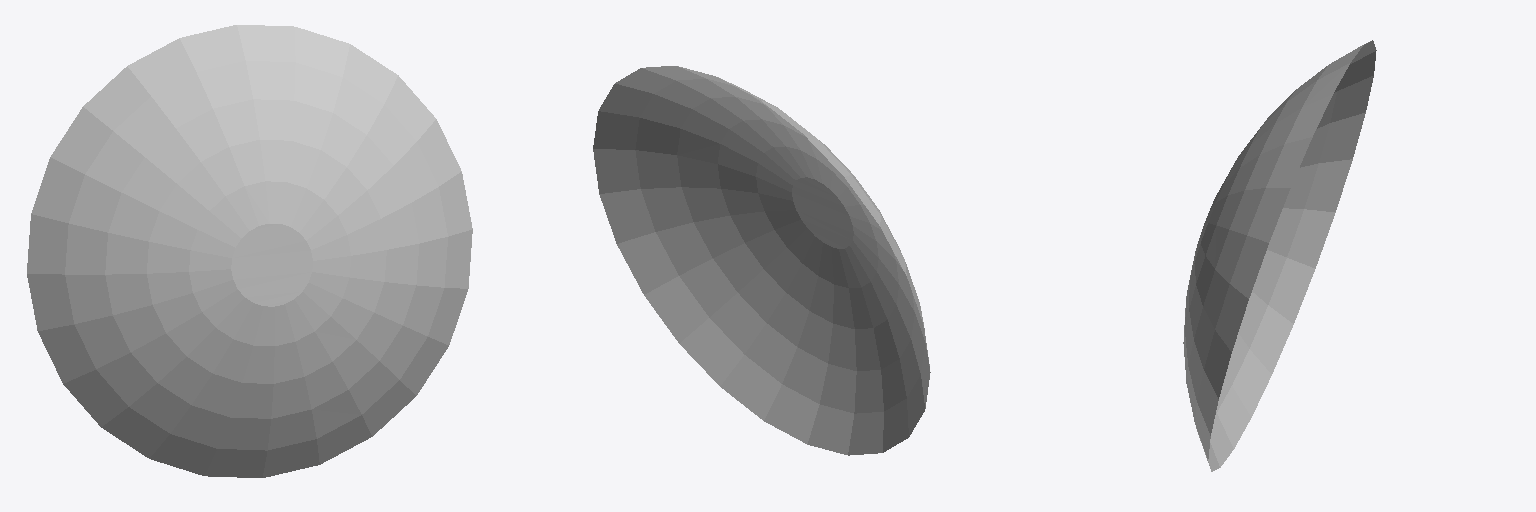
Rendered from original-27.obj.
3 views of the same model, side by side, from view 1: azimuth 30°, elevation 25°; view 2: azimuth 150°, elevation 25°; view 3: azimuth 270°, elevation 25° (orthographic).
Parts seen in each view (by area): view 1: #ID133; view 2: #ID133; view 3: #ID133.
Part boxes in pixels (left/top/right/bottom): #ID133: left=27, top=25, right=472, bottom=477; #ID133: left=593, top=66, right=930, bottom=455; #ID133: left=1183, top=40, right=1376, bottom=471.
Size of the model in its own units: 0.0254 by 0.0253 by 0.011.